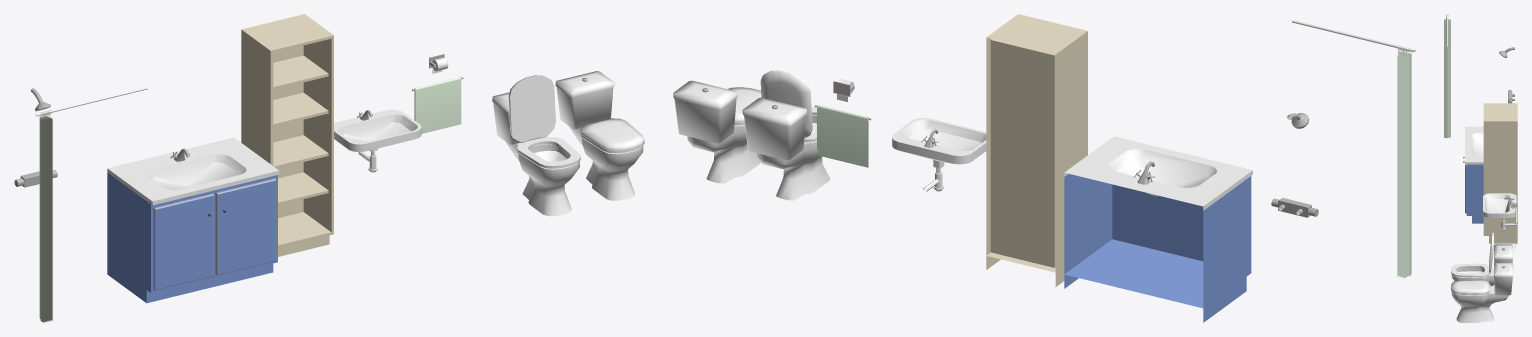
The model's file is toilet.fbx_Collection_1.fbx.
The picture shows the model from 3 angles, left to right: view 1: azimuth 30°, elevation 25°; view 2: azimuth 150°, elevation 25°; view 3: azimuth 270°, elevation 25°; orthographic projection. The views are drawn at different scales.
Visible parts, largest first — view 1: lavabo1, dolap, klozetacik, klozetkapali, dus, lavabo2, havlu; view 2: lavabo1, dolap, klozetacik, klozetkapali, dus, lavabo2, havlu; view 3: dolap, klozetkapali, lavabo1, klozetacik, dus, lavabo2, havlu.
Boxes of the visible parts, <box> form: lavabo1: <box>107,137,279,303</box>; dolap: <box>241,14,333,256</box>; klozetacik: <box>492,75,580,216</box>; klozetkapali: <box>555,71,644,200</box>; dus: <box>14,87,147,322</box>; lavabo2: <box>334,109,421,172</box>; havlu: <box>412,77,463,133</box>; lavabo1: <box>1064,136,1252,322</box>; dolap: <box>986,14,1087,286</box>; klozetacik: <box>742,70,830,200</box>; klozetkapali: <box>673,80,761,183</box>; dus: <box>1271,20,1415,278</box>; lavabo2: <box>892,118,986,192</box>; havlu: <box>814,105,871,167</box>; dolap: <box>1483,103,1517,243</box>; klozetkapali: <box>1451,262,1513,322</box>; lavabo1: <box>1463,126,1483,223</box>; klozetacik: <box>1451,232,1513,303</box>; dus: <box>1444,14,1514,138</box>; lavabo2: <box>1483,193,1517,230</box>; havlu: <box>1515,209,1517,248</box>.
Size of the model in its own units: 4894 by 1789 by 875.
